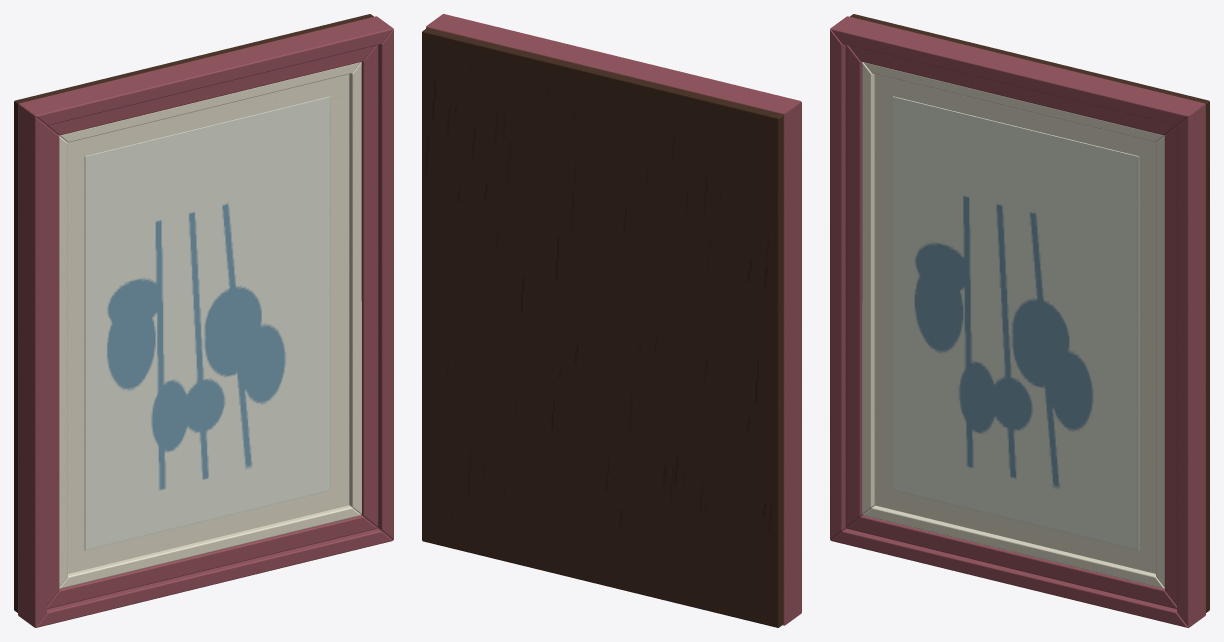
File: Frame_24_FUR06.fbx
3 views of the same model, side by side, from view 1: azimuth 30°, elevation 25°; view 2: azimuth 150°, elevation 25°; view 3: azimuth 330°, elevation 25° (orthographic).
Parts seen in each view (by area): view 1: Frame_24; view 2: Frame_24; view 3: Frame_24.
Boxes of the visible parts, x1,y1,x2,y2 form: Frame_24: (14,14,393,627); Frame_24: (422,14,801,627); Frame_24: (830,14,1209,627).
Size of the model in its own units: 0.33 by 0.45 by 0.036.
Materials: 2 (2 with a texture image).
